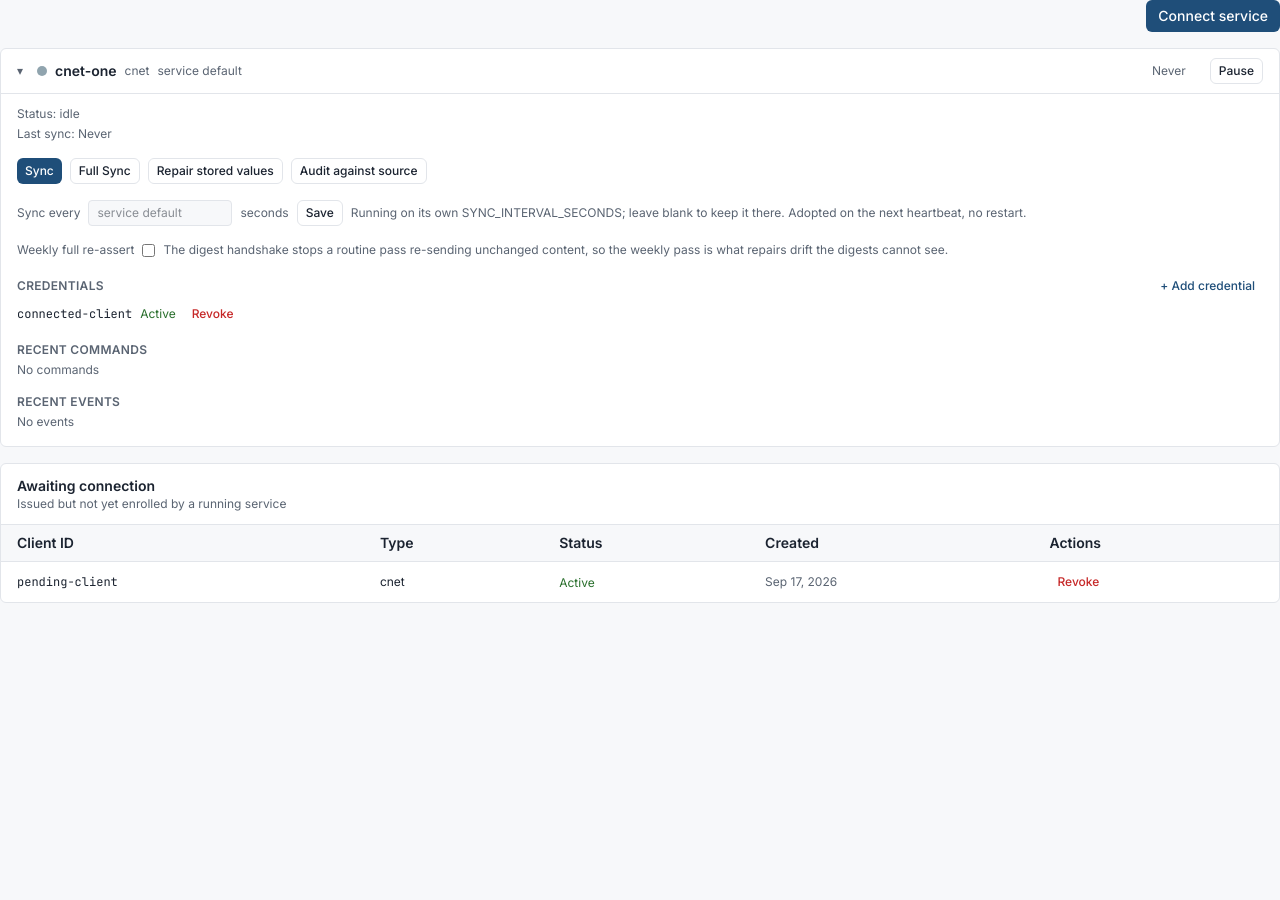
SyncServicesPanel › keeps the created secret in the copy-once connection flow
Click the button "Connect service". click: (1213, 16)
box: [1146, 0, 1279, 32]
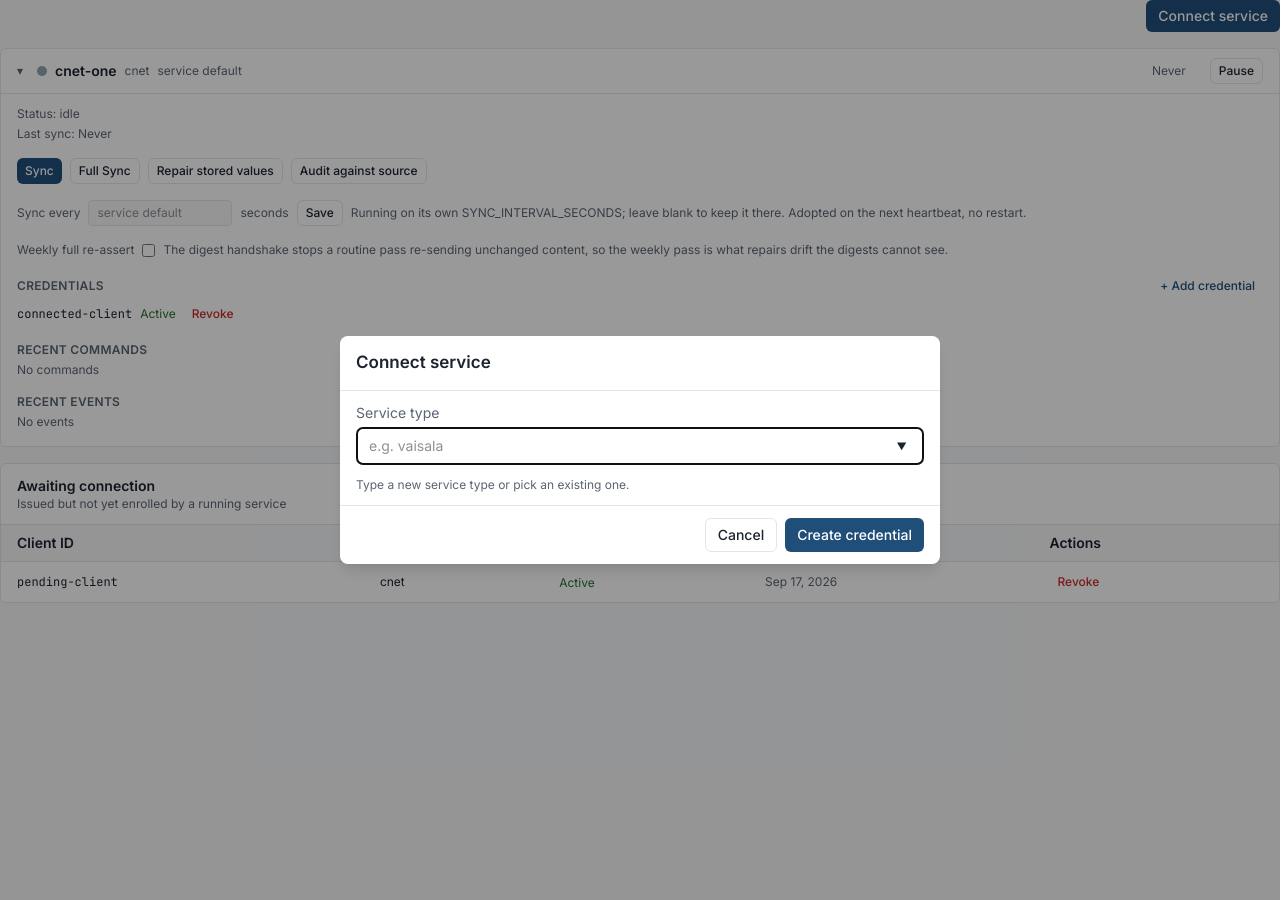
Type "vaisala" into the field labelled "Service type". click: (640, 446)
box: [356, 427, 924, 465]
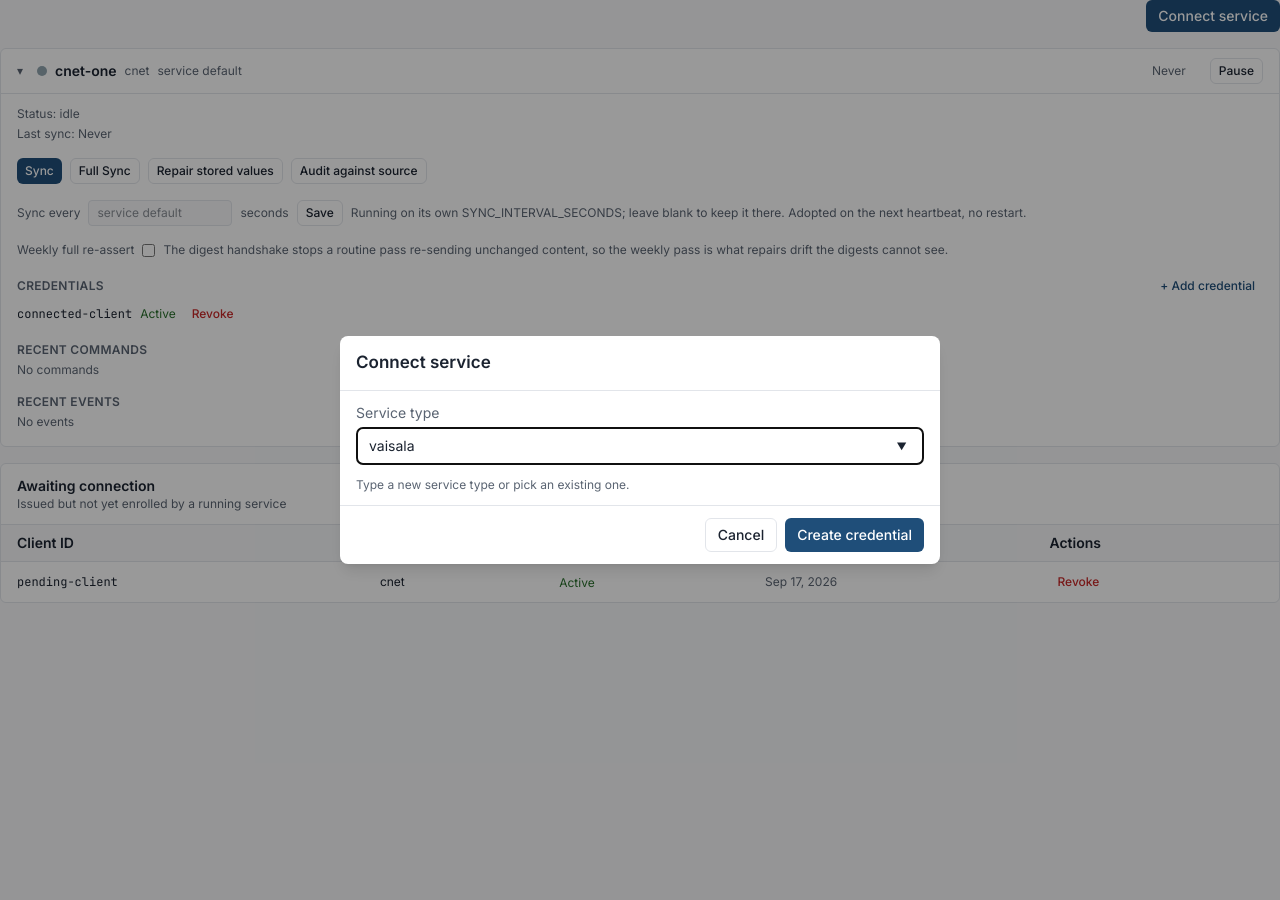
Click the button "Create credential". click: (855, 535)
box: [785, 518, 924, 552]
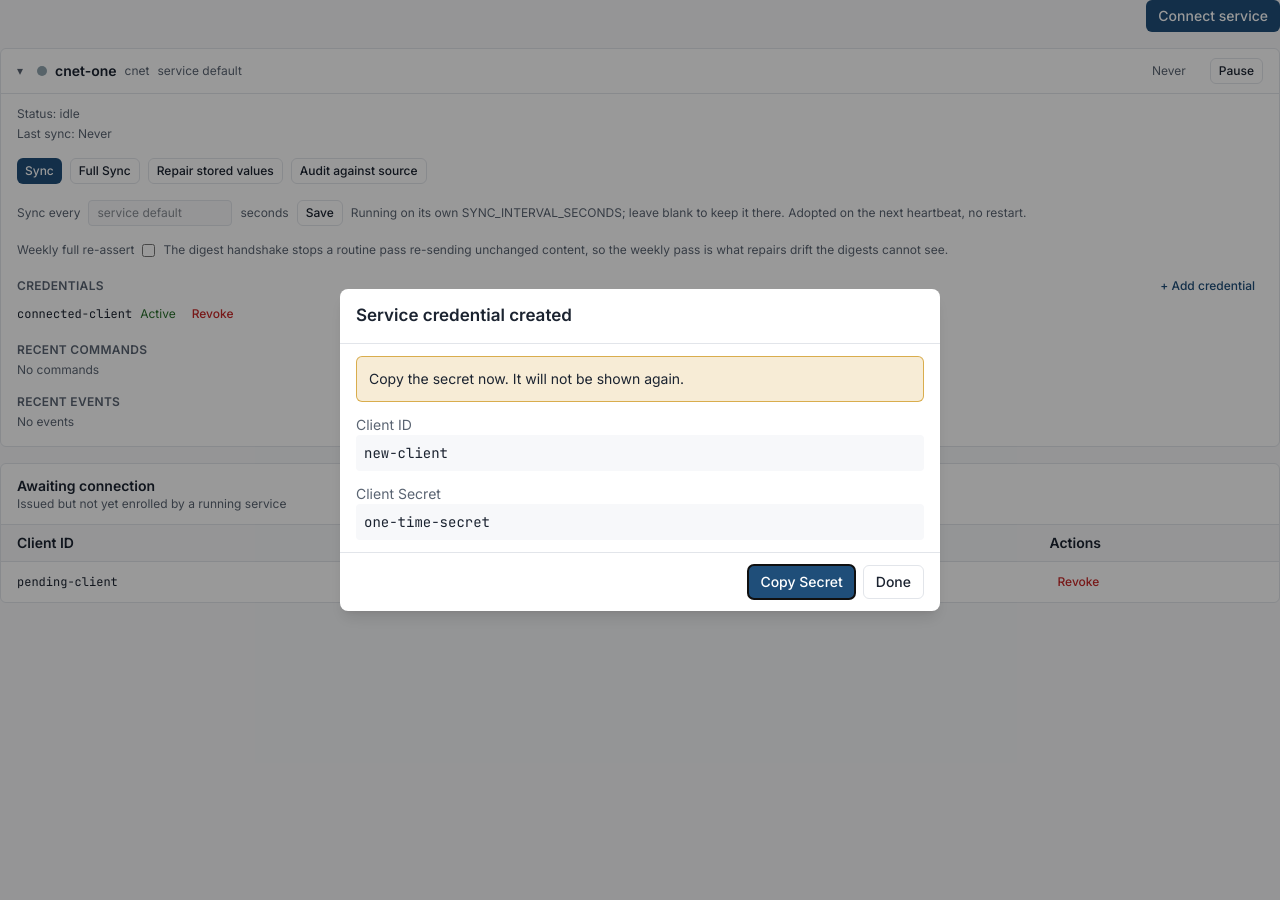
Expected: the text "one-time-secret" is shown, [356, 504, 924, 540]
Expected: the text "Copy the secret now. It will not be shown again." is shown, [356, 356, 924, 402]
